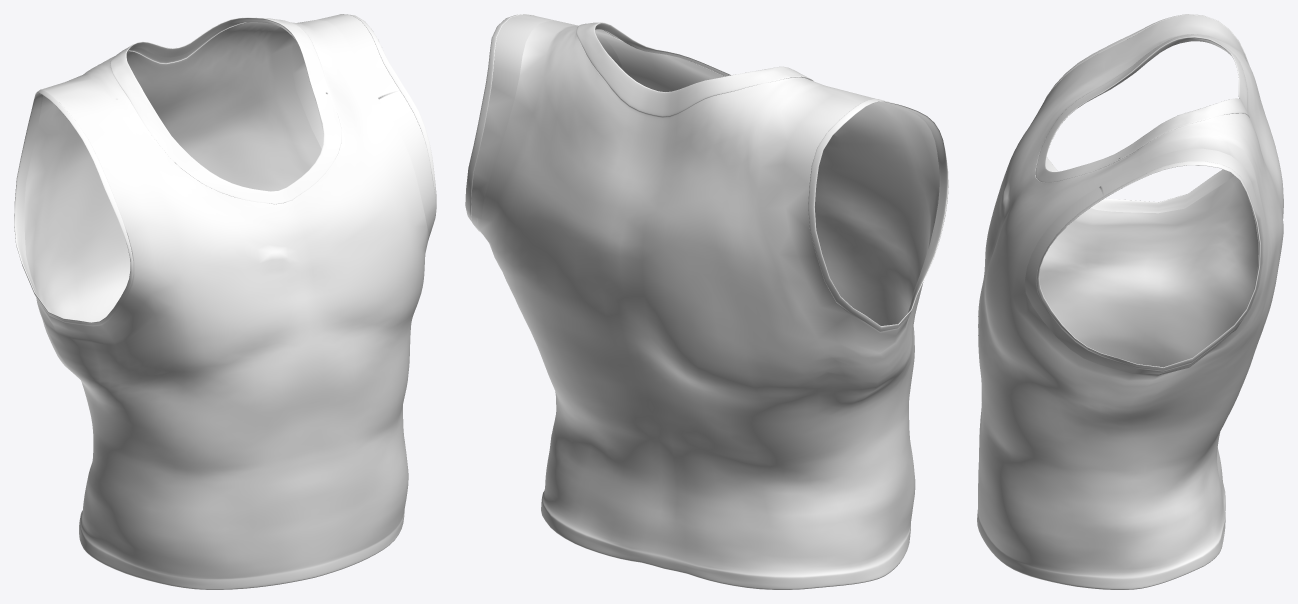
File: Jersey.glb
3 views of the same model, side by side, from view 1: azimuth 30°, elevation 25°; view 2: azimuth 150°, elevation 25°; view 3: azimuth 270°, elevation 25° (orthographic). The views are drawn at different scales.
Parts seen in each view (by area): view 1: Tankini_for_Genesis.001; view 2: Tankini_for_Genesis.001; view 3: Tankini_for_Genesis.001.
Part boxes in pixels (box(x1,y1,x2,y2)): Tankini_for_Genesis.001: box(14, 14, 436, 589); Tankini_for_Genesis.001: box(465, 14, 948, 589); Tankini_for_Genesis.001: box(977, 14, 1283, 589).
Bounding box in the file's own units: 7.57 × 9.59 × 5.92.
1 material, 1 textured.
